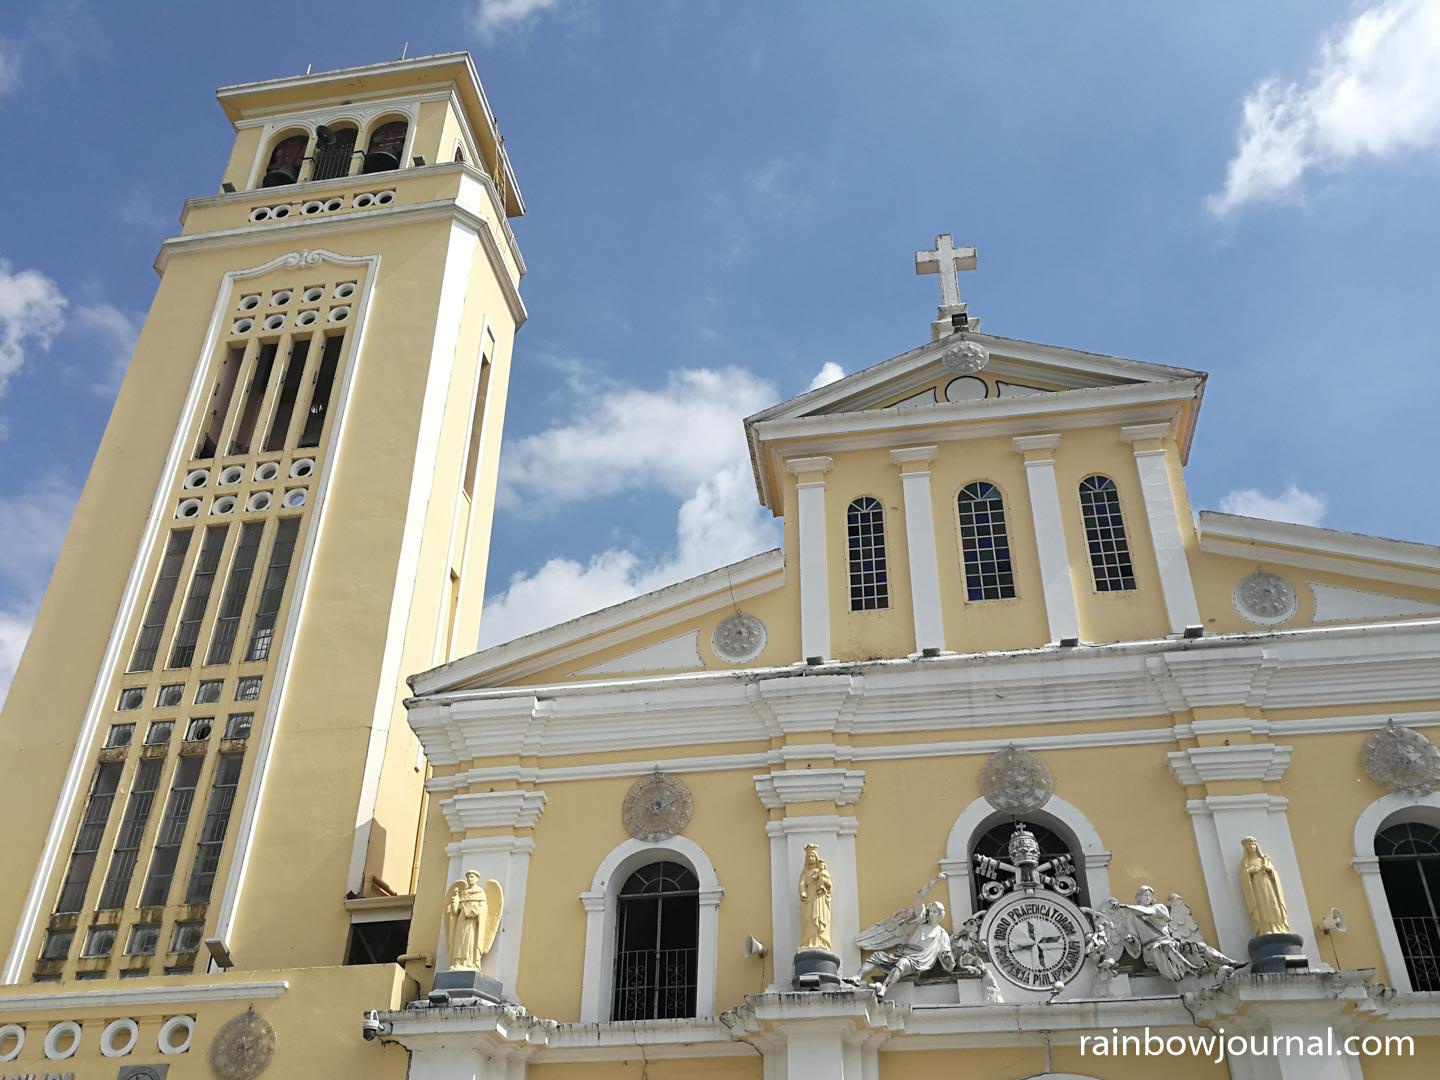manaoag_church_manaoag_pangasinan: (62, 47, 1440, 1065)
